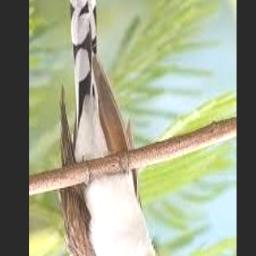Cuckoo: (59, 0, 182, 256)
